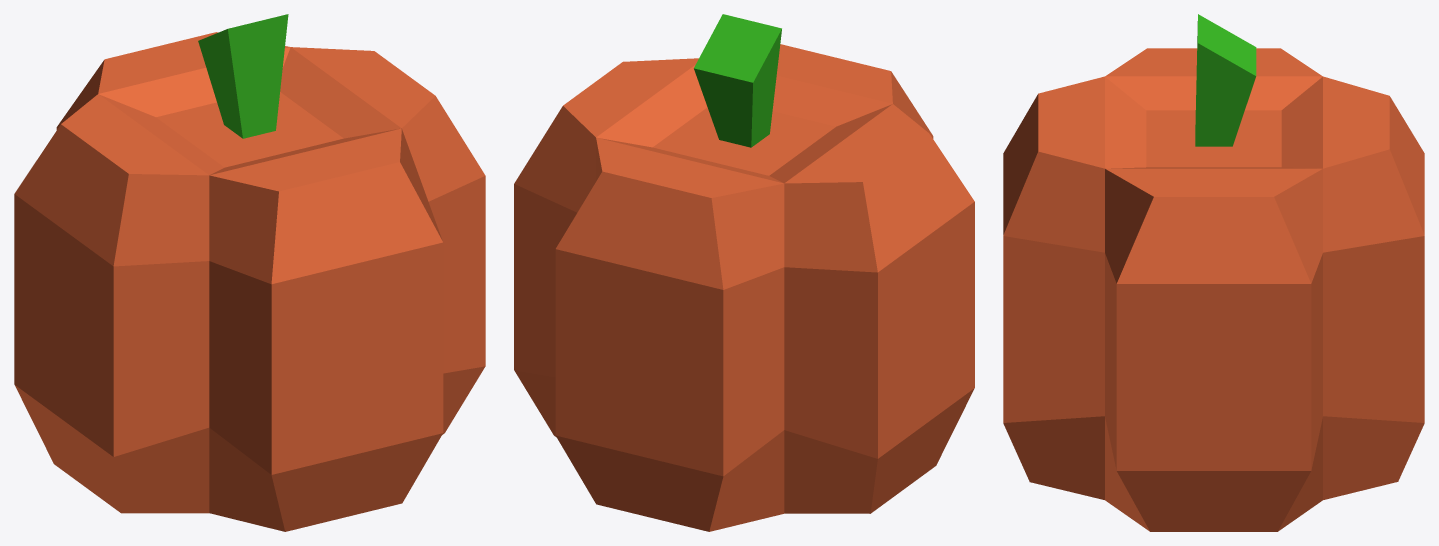
File: Pepper Model.fbx
3 renders of one model, left to right at view 1: azimuth 30°, elevation 25°; view 2: azimuth 150°, elevation 25°; view 3: azimuth 270°, elevation 25°, orthographic. The views are drawn at different scales.
Parts seen in each view (by area): view 1: Pepper; view 2: Pepper; view 3: Pepper.
Part boxes in pixels (x1,y1,x2,y2): Pepper: (14, 14, 485, 531); Pepper: (514, 14, 974, 531); Pepper: (1003, 14, 1424, 531).
Bounding box in the file's own units: 24.79 × 27.61 × 24.79.
